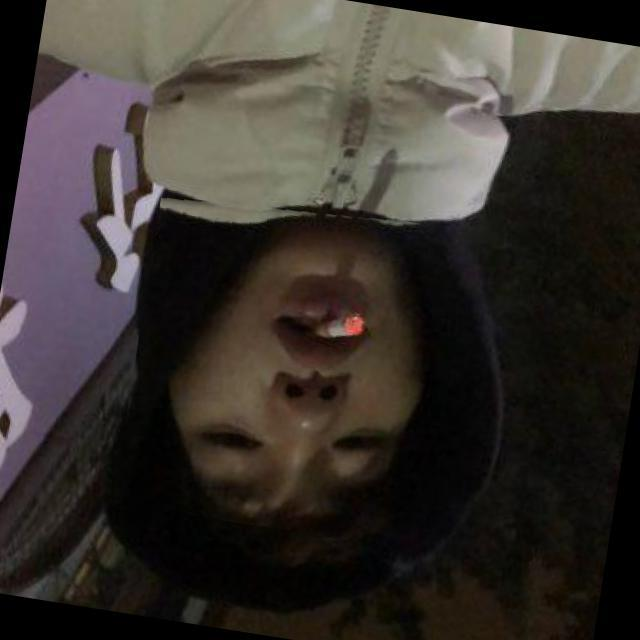cigarette: (287, 286, 396, 354)
